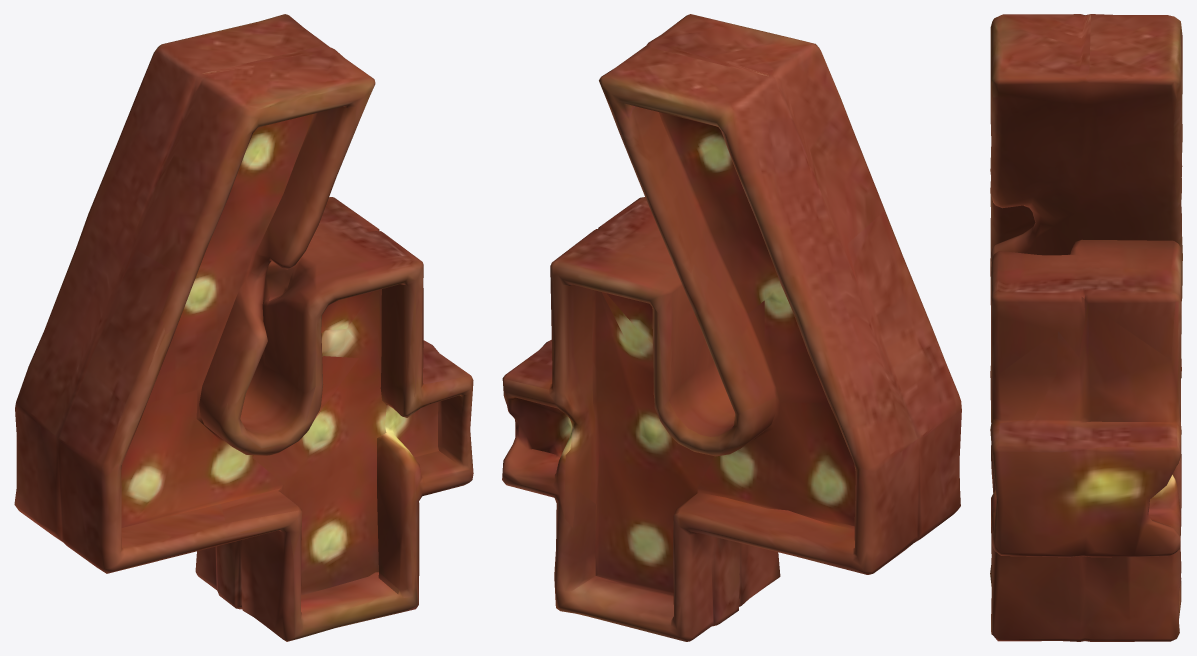
File: digit_4_idle.glb
3 views of the same model, side by side, from view 1: azimuth 30°, elevation 25°; view 2: azimuth 150°, elevation 25°; view 3: azimuth 270°, elevation 25° (orthographic).
Parts seen in each view (by area): view 1: tmp_digits_4_9_signs_00; view 2: tmp_digits_4_9_signs_00; view 3: tmp_digits_4_9_signs_00.
Boxes of the visible parts, x1,y1,x2,y2 form: tmp_digits_4_9_signs_00: (14, 14, 473, 641); tmp_digits_4_9_signs_00: (502, 14, 961, 641); tmp_digits_4_9_signs_00: (990, 14, 1182, 641).
Size of the model in its own units: 0.7148 by 0.9923 by 0.3176.
1 material, 1 textured.
